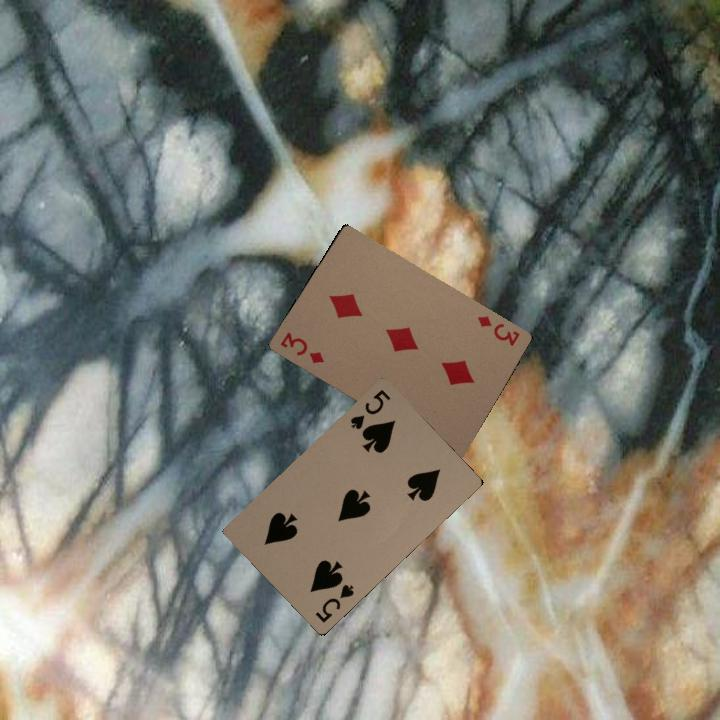3d: (276, 328, 327, 366), (473, 312, 522, 349)
5s: (346, 385, 393, 432), (311, 580, 357, 625)
